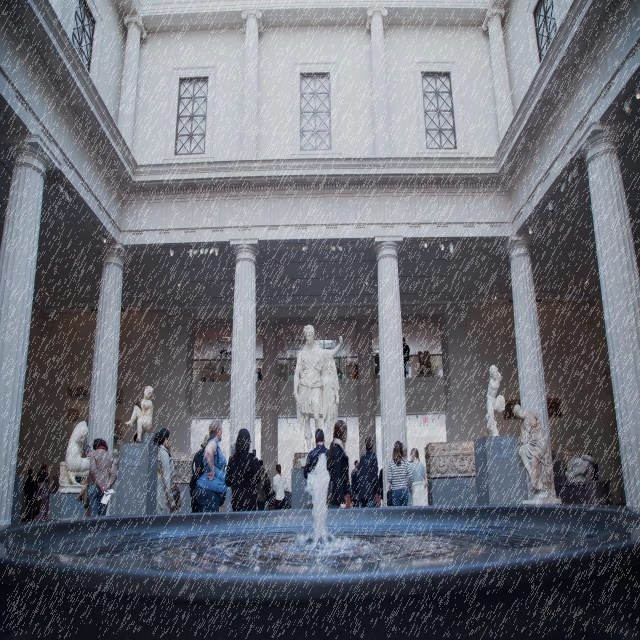pessoa: (292, 322, 347, 453), (512, 400, 558, 503), (188, 418, 228, 514), (75, 437, 118, 518), (224, 426, 262, 512), (302, 426, 334, 509), (152, 427, 182, 515), (326, 418, 354, 509), (64, 418, 94, 486), (354, 436, 382, 508), (386, 440, 414, 508), (558, 438, 600, 482), (123, 384, 154, 442), (484, 364, 506, 436), (408, 447, 430, 507), (34, 460, 52, 518), (272, 463, 292, 511), (256, 459, 270, 511), (23, 468, 36, 522), (189, 472, 203, 514), (350, 460, 360, 508), (402, 336, 410, 378), (168, 446, 174, 478), (378, 466, 383, 501), (16, 456, 22, 478), (200, 374, 215, 382), (352, 364, 358, 380), (56, 458, 62, 474), (257, 368, 263, 382)
